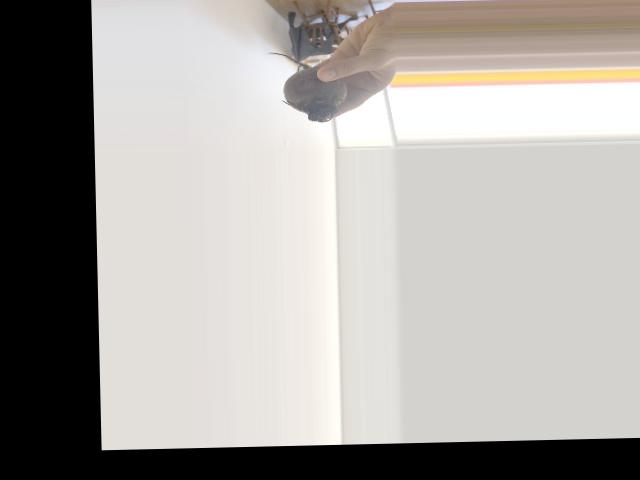beet: (264, 50, 347, 123)
